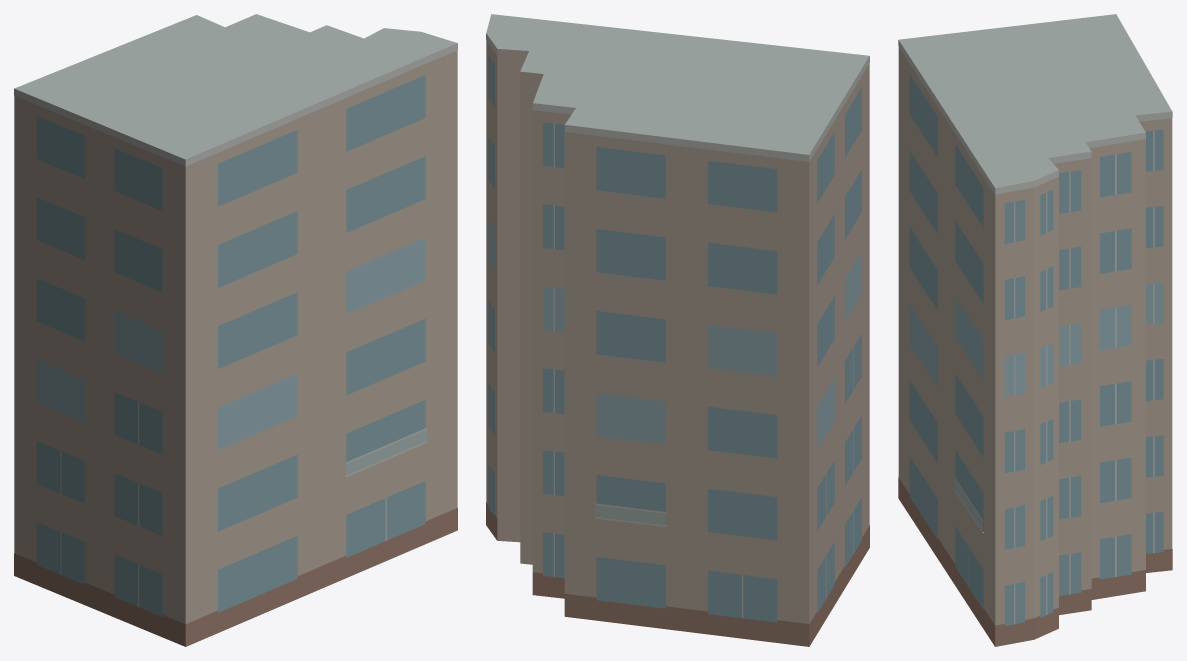
The model's file is survey-upis-32656591.glb.
The picture shows the model from 3 angles, left to right: view 1: azimuth 30°, elevation 25°; view 2: azimuth 150°, elevation 25°; view 3: azimuth 270°, elevation 25°; orthographic projection. The views are drawn at different scales.
Parts seen in each view (by area): view 1: survey-upis-32656591.tmp; view 2: survey-upis-32656591.tmp; view 3: survey-upis-32656591.tmp.
Boxes of the visible parts, x1,y1,x2,y2 form: survey-upis-32656591.tmp: (14,14,457,646); survey-upis-32656591.tmp: (486,14,869,646); survey-upis-32656591.tmp: (898,14,1172,646).
Bounding box in the file's own units: 13.86 × 17 × 9.21.
